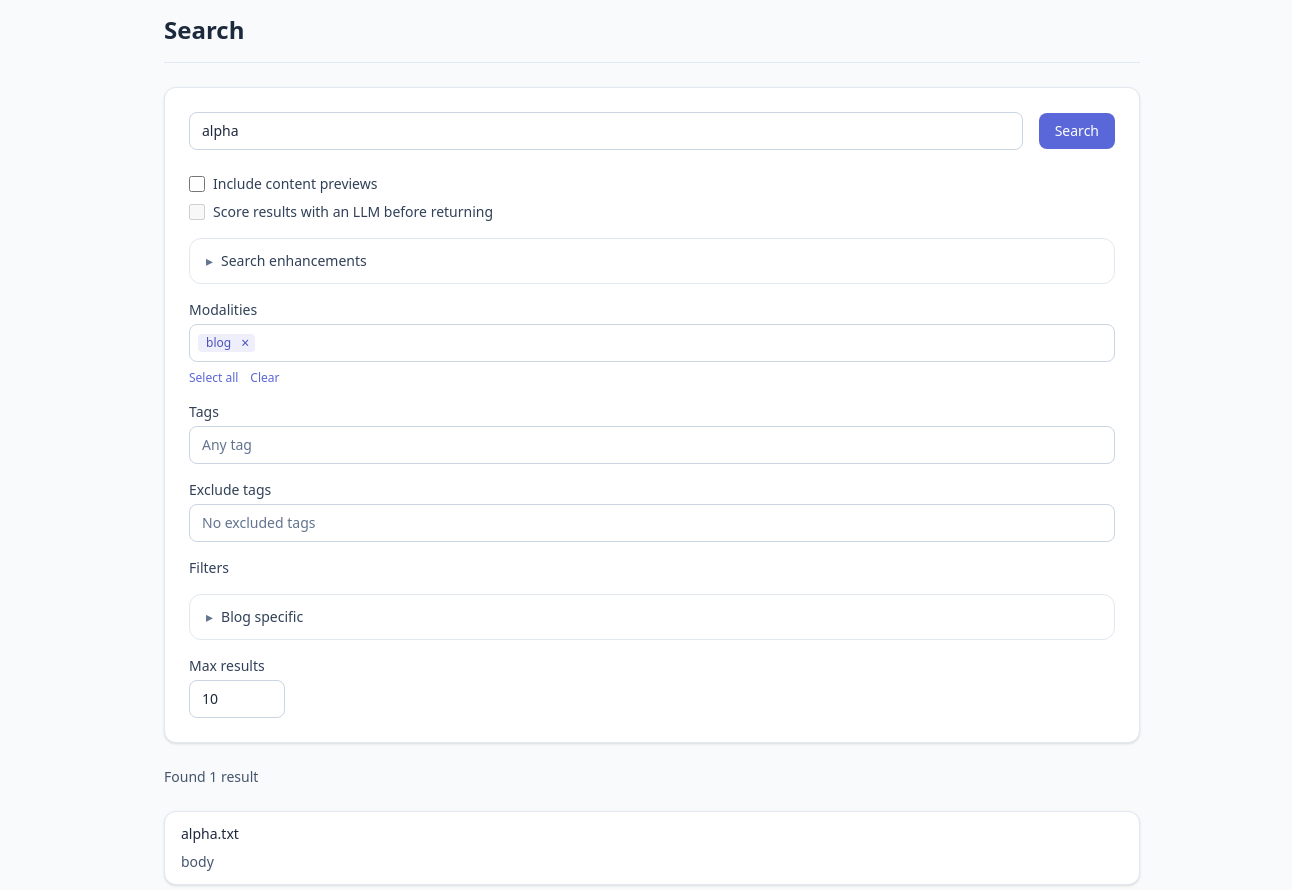
Scenario: Search › runs the search in the URL on load and puts a new query in the URL
Expected: the text "alpha.txt" is shown, [181, 824, 239, 844]
Replace the text in the field with placeholder "Search your knowledge base..." with "beta" at point(606, 131), box [189, 112, 1023, 150]
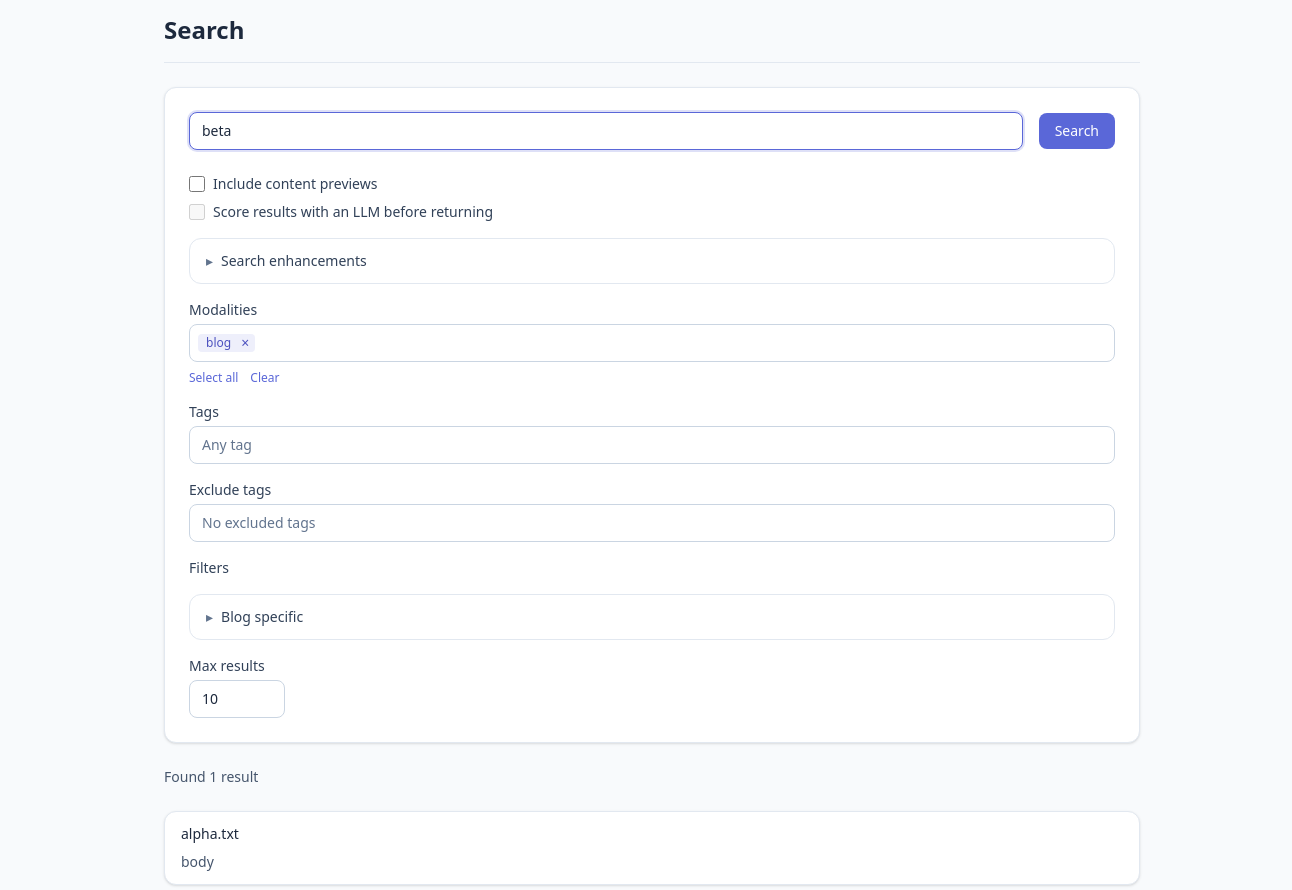
Click the button "Search" at point(1077, 131), box [1039, 113, 1115, 149]
(page scrolled)
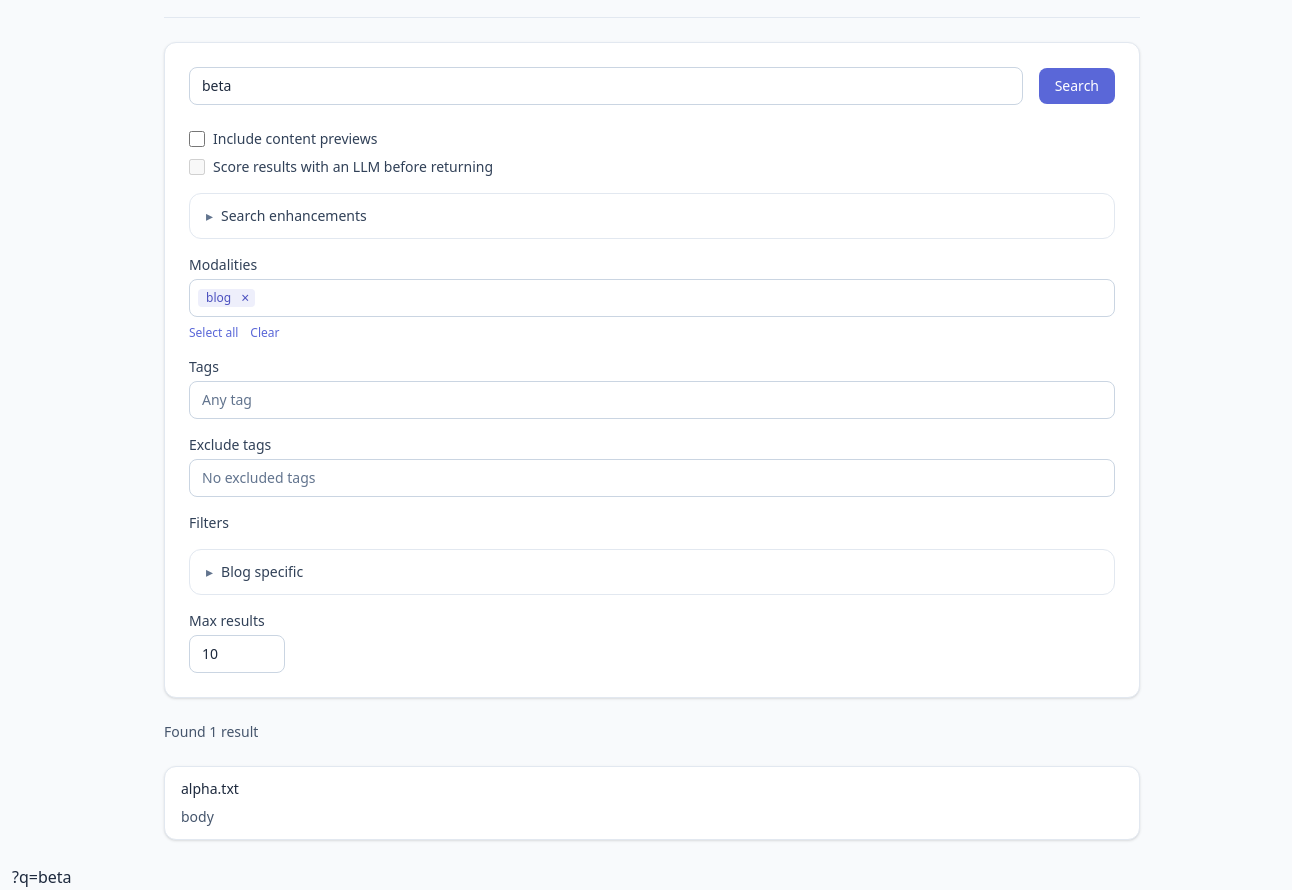
Result: the text with test id "location" reads "?q=beta" at [12, 866, 72, 888]
